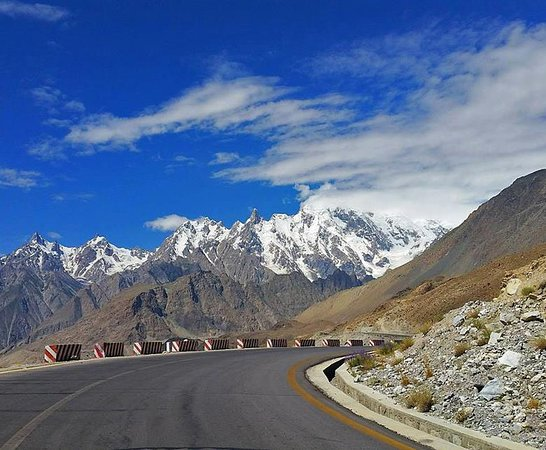rightTrun: (81, 315, 341, 450)
